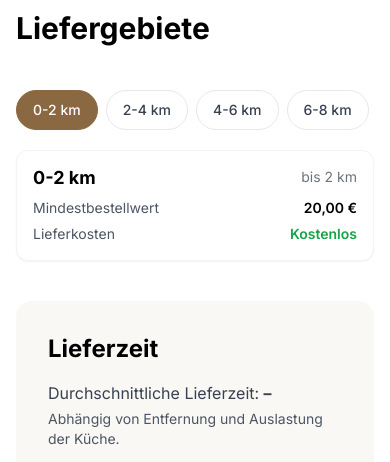
Test case: DeliveryPage — мобильные зоны (pills) + подсветка › клик по pill «4-6 km» → карта получает highlightedZoneId, деталь обновляется
Click the button "4-6 km" at (237, 110), box [196, 90, 278, 130]
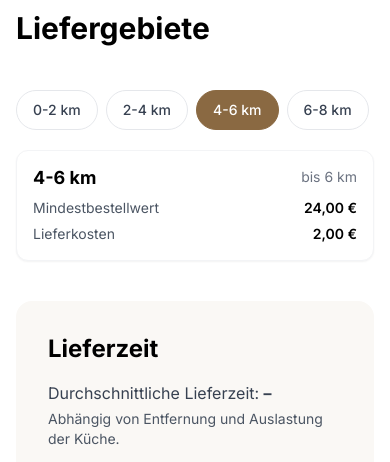
Check: the text "24,00 €" is shown, box [304, 198, 357, 218]
